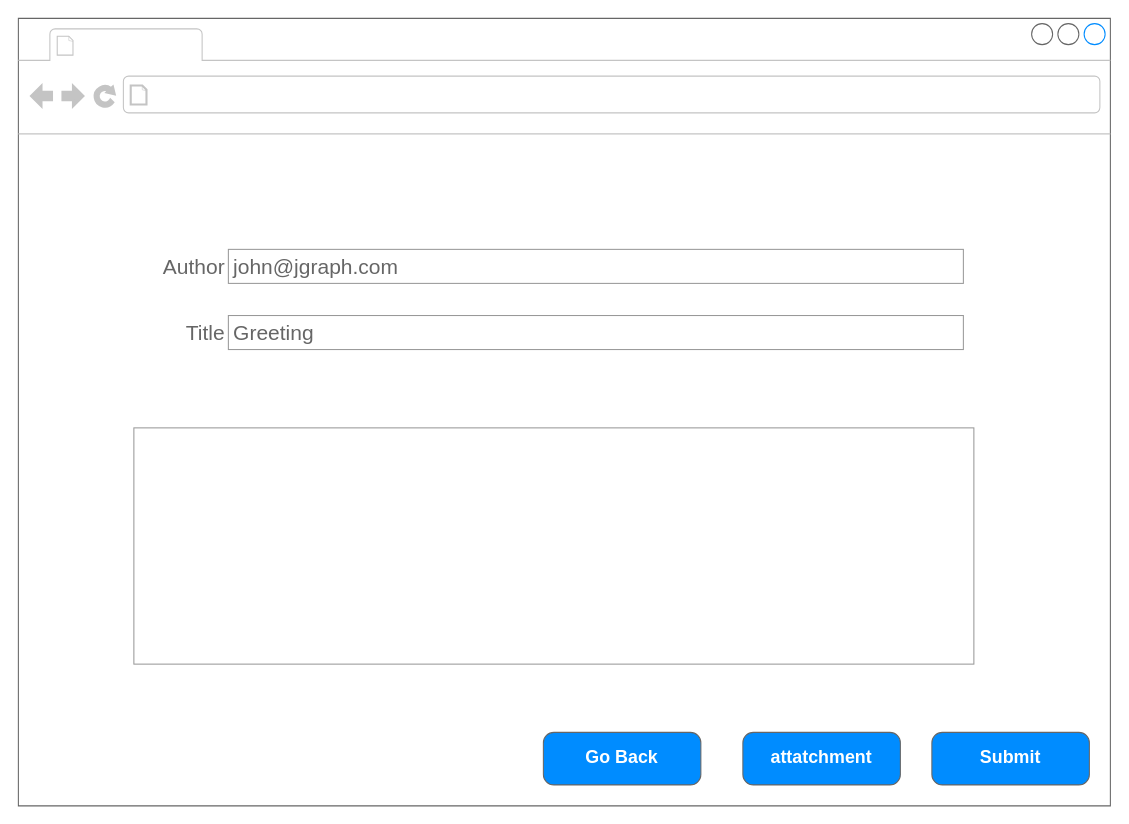
Some shapes in this 1129 by 824 pixel diagram are drawn without their labels. The shapes that lost their labels are listed below. From the top down, each one's centre as x and y in pixels, then its label:
the point at 138,44: Page 1
the point at 285,94: https://www.draw.io
the point at 553,545: Text Content Lorem ipsum
